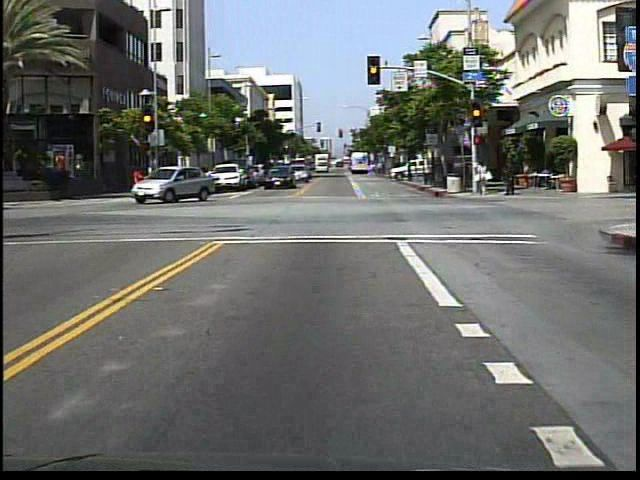person: (472, 158, 493, 199), (502, 156, 518, 197), (133, 165, 151, 196)
